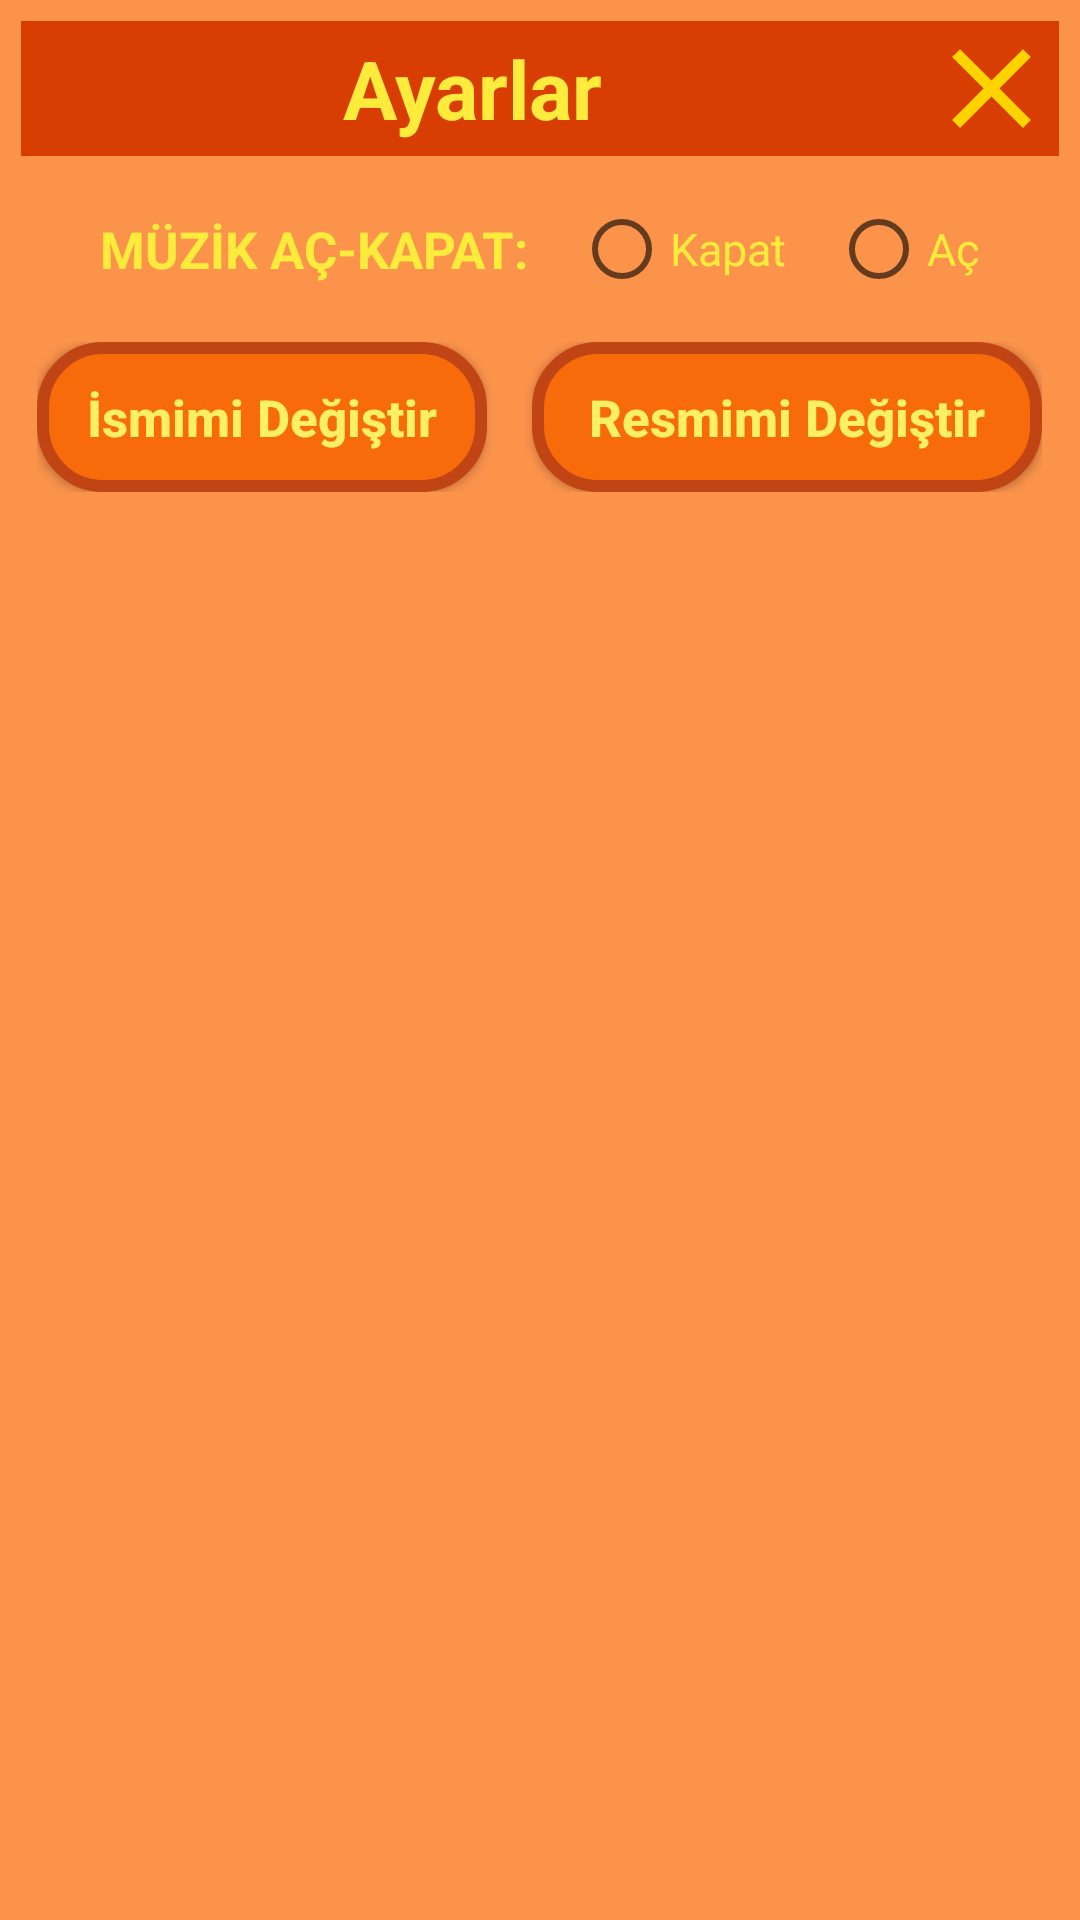

Locate icon controls on the screen. Image size 1080x1920, boxes as {"left": x1, "top": y1, "right": x2, "bottom": y2}.
close: {"left": 924, "top": 21, "right": 1059, "bottom": 156}
